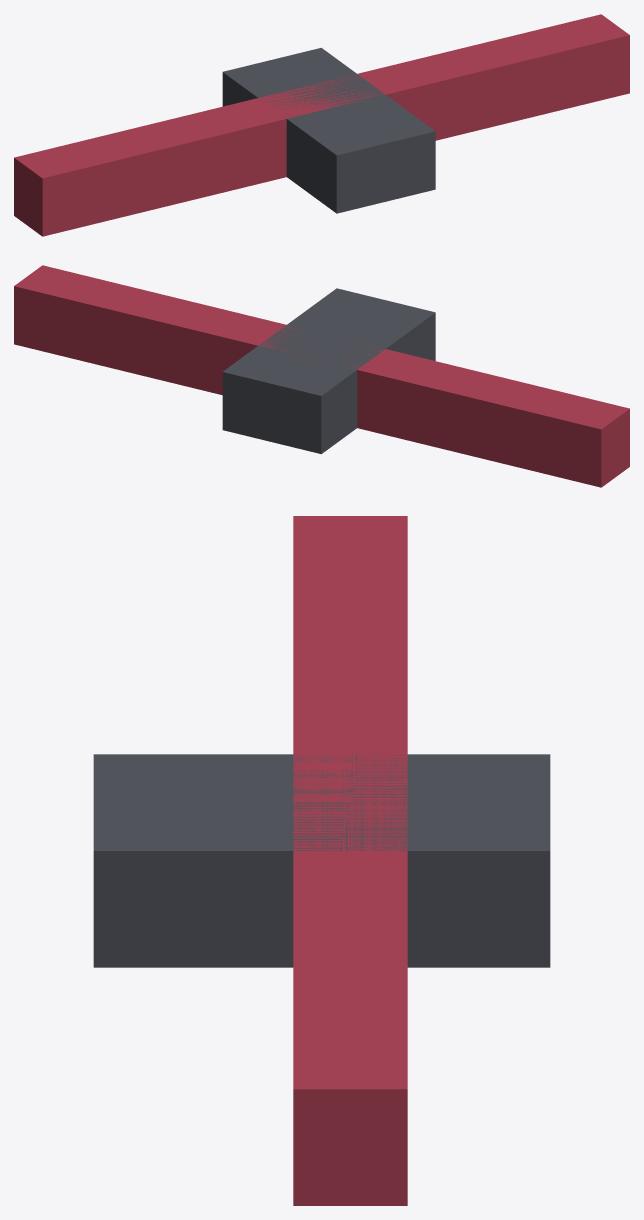
Rendered from batarang_prop_v01.glb.
3 views of the same model, one above another, from view 1: azimuth 30°, elevation 25°; view 2: azimuth 150°, elevation 25°; view 3: azimuth 270°, elevation 25° (orthographic). The views are drawn at different scales.
Parts seen in each view (by area): view 1: box_0, box_1; view 2: box_0, box_1; view 3: box_1, box_0.
Boxes of the visible parts, x1=… form: box_0: x1=14, y1=14, x2=629, y2=236; box_1: x1=222, y1=47, x2=435, y2=213; box_0: x1=14, y1=265, x2=629, y2=487; box_1: x1=222, y1=288, x2=435, y2=454; box_1: x1=93, y1=754, x2=550, y2=967; box_0: x1=293, y1=516, x2=407, y2=1205.
Size of the model in its own units: 0.95 by 0.09 by 0.32.
